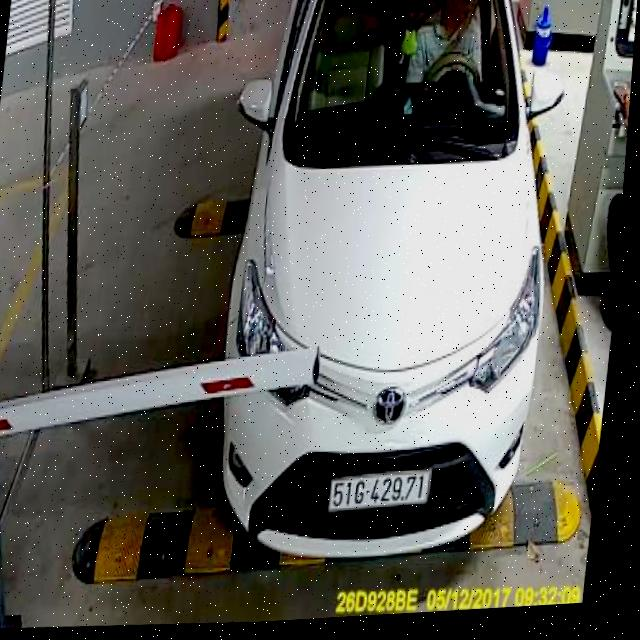car: (178, 0, 605, 579)
plate: (321, 470, 434, 514)
